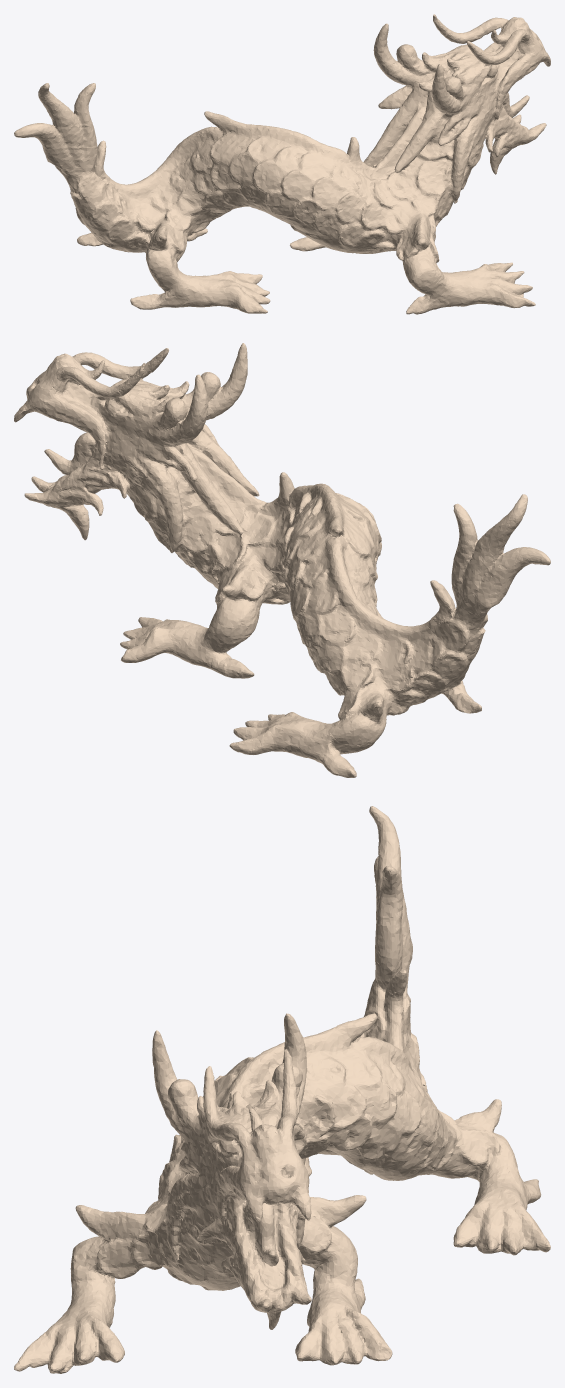
Rendered from dragon_nerfpe.glb.
3 renders of one model, top to bottom at view 1: azimuth 30°, elevation 25°; view 2: azimuth 150°, elevation 25°; view 3: azimuth 270°, elevation 25°, orthographic. The views are drawn at different scales.
Parts seen in each view (by area): view 1: world; view 2: world; view 3: world.
Boxes of the visible parts, box(x1,y1,x2,y2) form: world: box(14, 14, 550, 314); world: box(14, 343, 550, 777); world: box(14, 806, 550, 1373).
Bounding box in the file's own units: 1 × 0.4487 × 0.6648.
